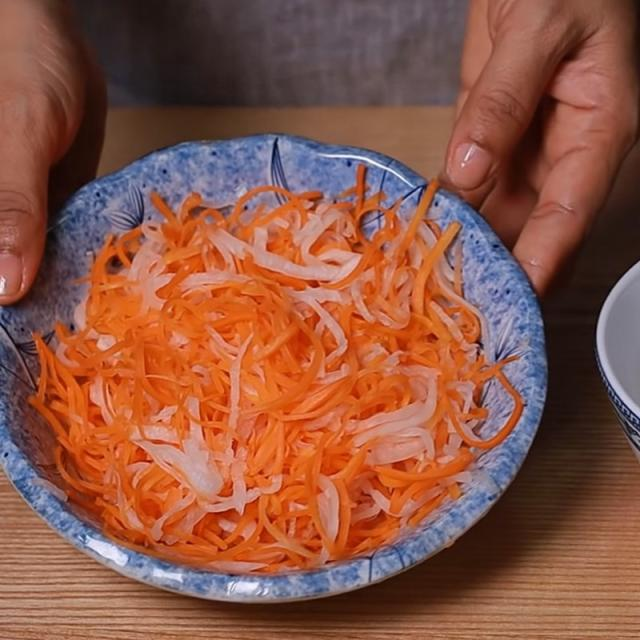do chua: (28, 166, 522, 573)
